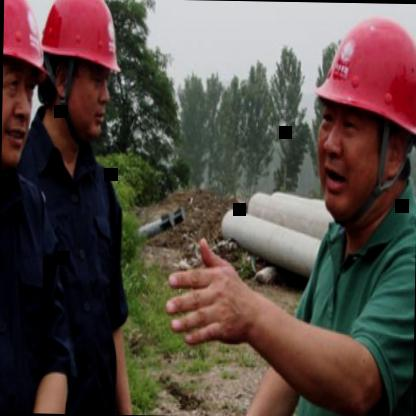helmet: (296, 5, 416, 233), (27, 0, 120, 151), (0, 0, 50, 162)
